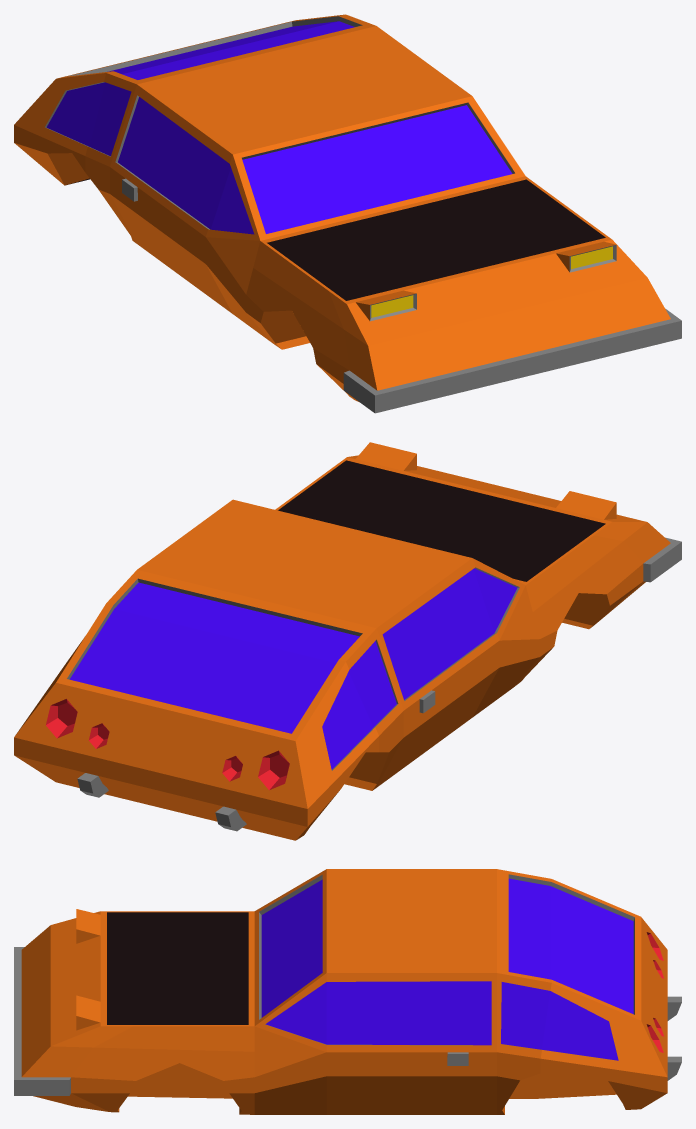
The model's file is JPNCarG 1.fbx.
3 renders of one model, top to bottom at view 1: azimuth 30°, elevation 25°; view 2: azimuth 150°, elevation 25°; view 3: azimuth 270°, elevation 25°, orthographic. The views are drawn at different scales.
Visible parts, largest first — view 1: Cube.003; view 2: Cube.003; view 3: Cube.003.
Part boxes in pixels (box(x1,y1,x2,y2)): Cube.003: box(14, 14, 681, 413); Cube.003: box(14, 442, 681, 840); Cube.003: box(14, 869, 681, 1114).
Size of the model in its own units: 200 by 99.33 by 424.
